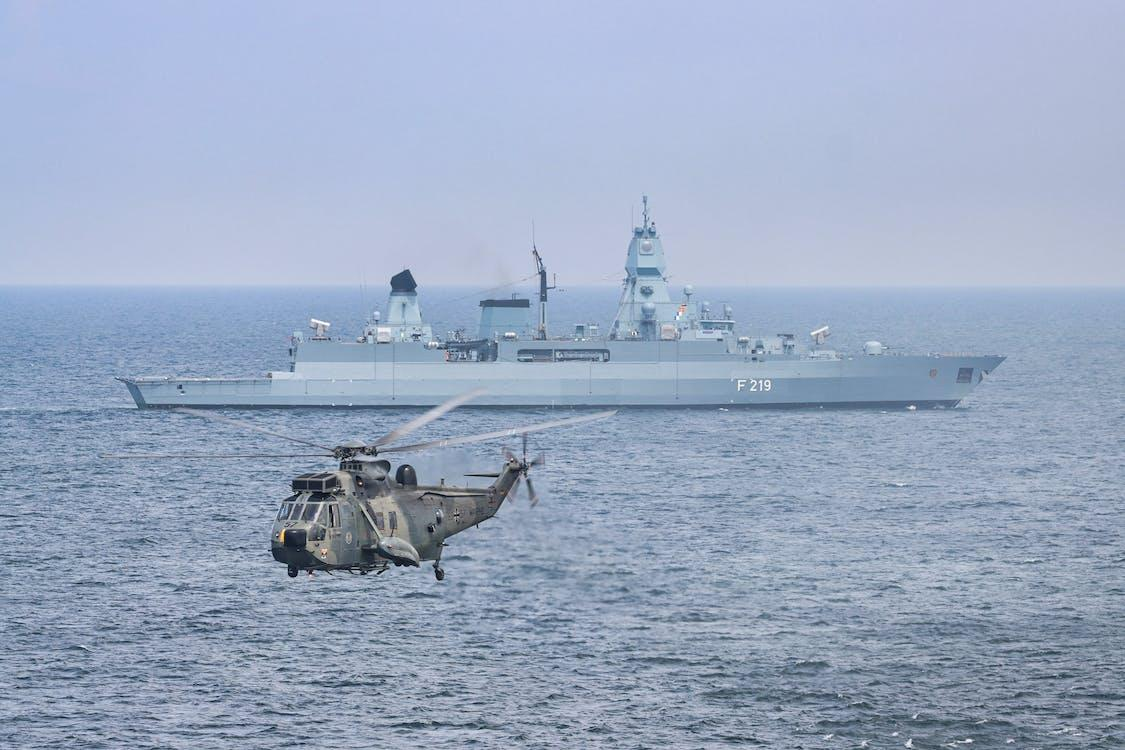MIL_Ship: (111, 187, 1010, 416)
